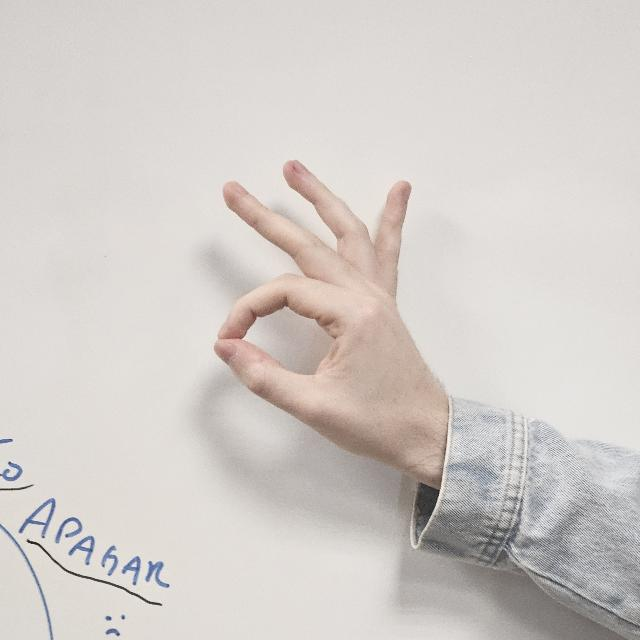Bolinha: (195, 132, 450, 524)
